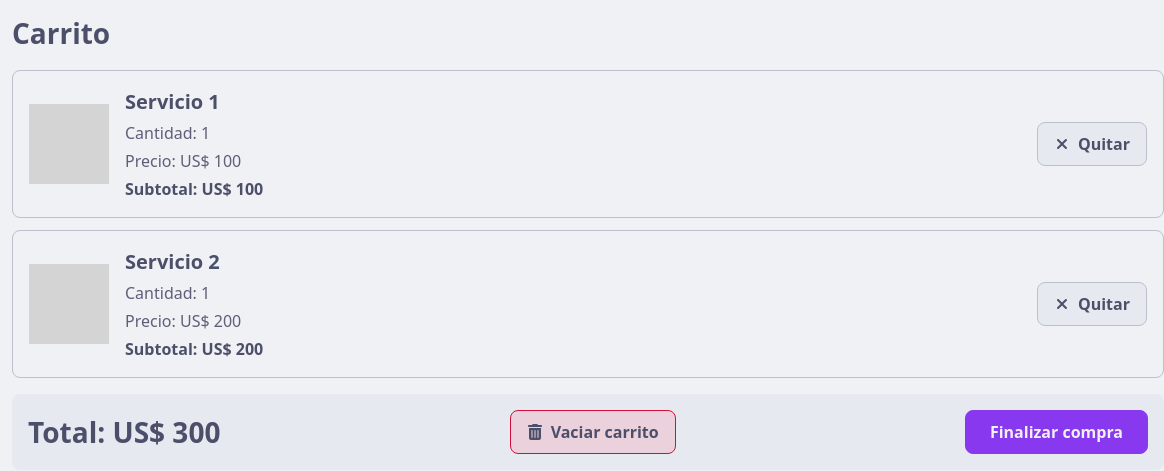
Scenario: CartPage › removes a service and updates the total
The width and height of the screenshot is (1164, 471).
Click the button with aria-label "Quitar Servicio 1": (1092, 144) [1037,122,1147,166]
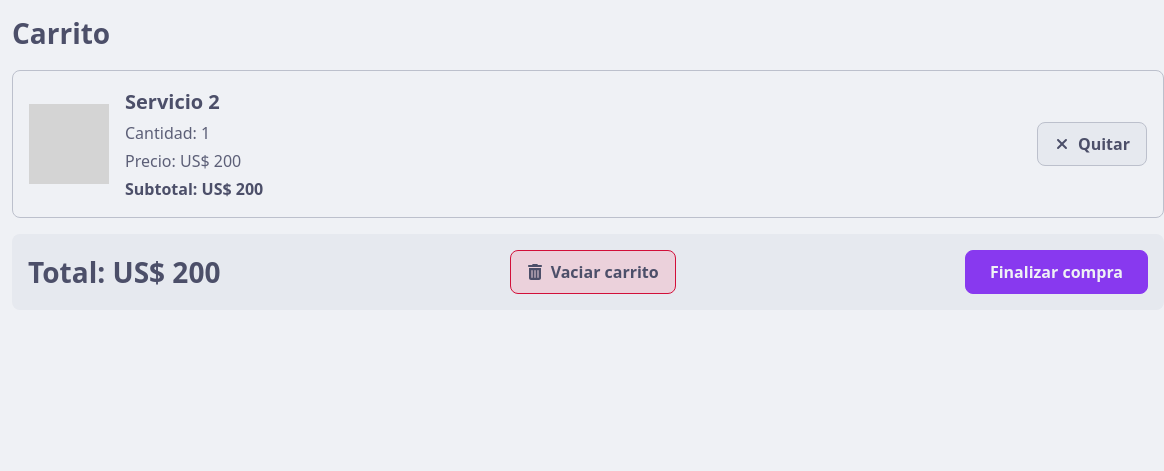
Check: the heading "Servicio 2" is shown, box [125,88,220,115]
Check: the heading "Servicio 1" is gone
Check: the text "Total: US$ 200" is shown, box [28,251,220,293]
